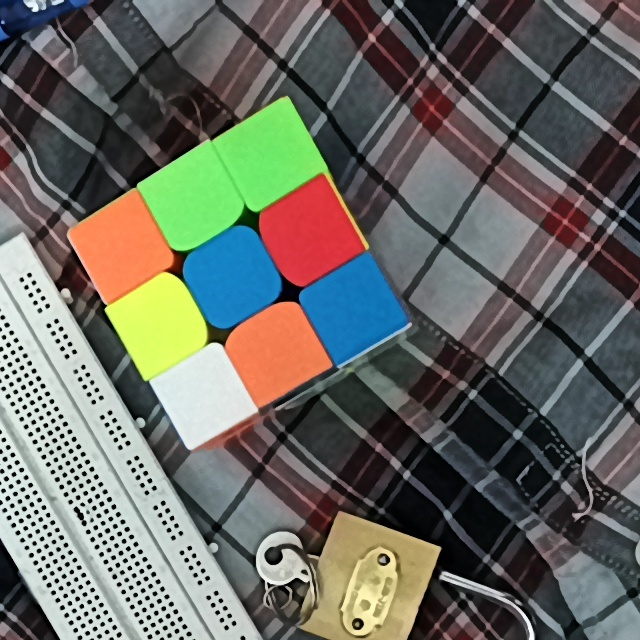tile: (275, 204, 341, 264), (206, 244, 264, 308), (164, 171, 224, 231), (246, 323, 307, 380), (321, 282, 383, 338), (91, 220, 149, 279), (239, 126, 295, 185), (130, 293, 186, 352), (177, 369, 236, 423)
